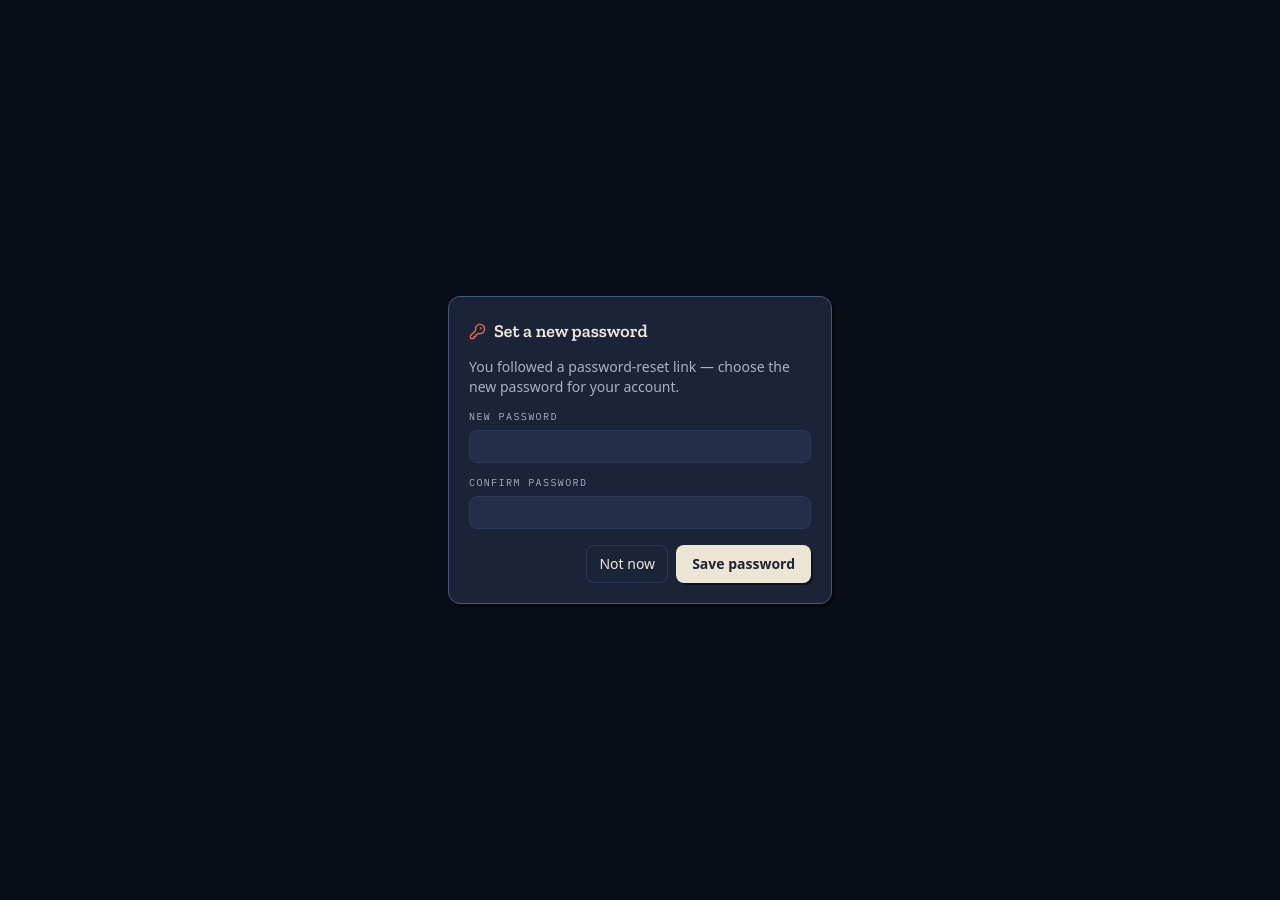
Test case: PasswordRecoveryModal › surfaces the store error when the update cannot run (offline)
This screenshot has width=1280, height=900.
Type "hunter22" into the password field labelled "New password" at (640, 446), box [469,430,811,463]
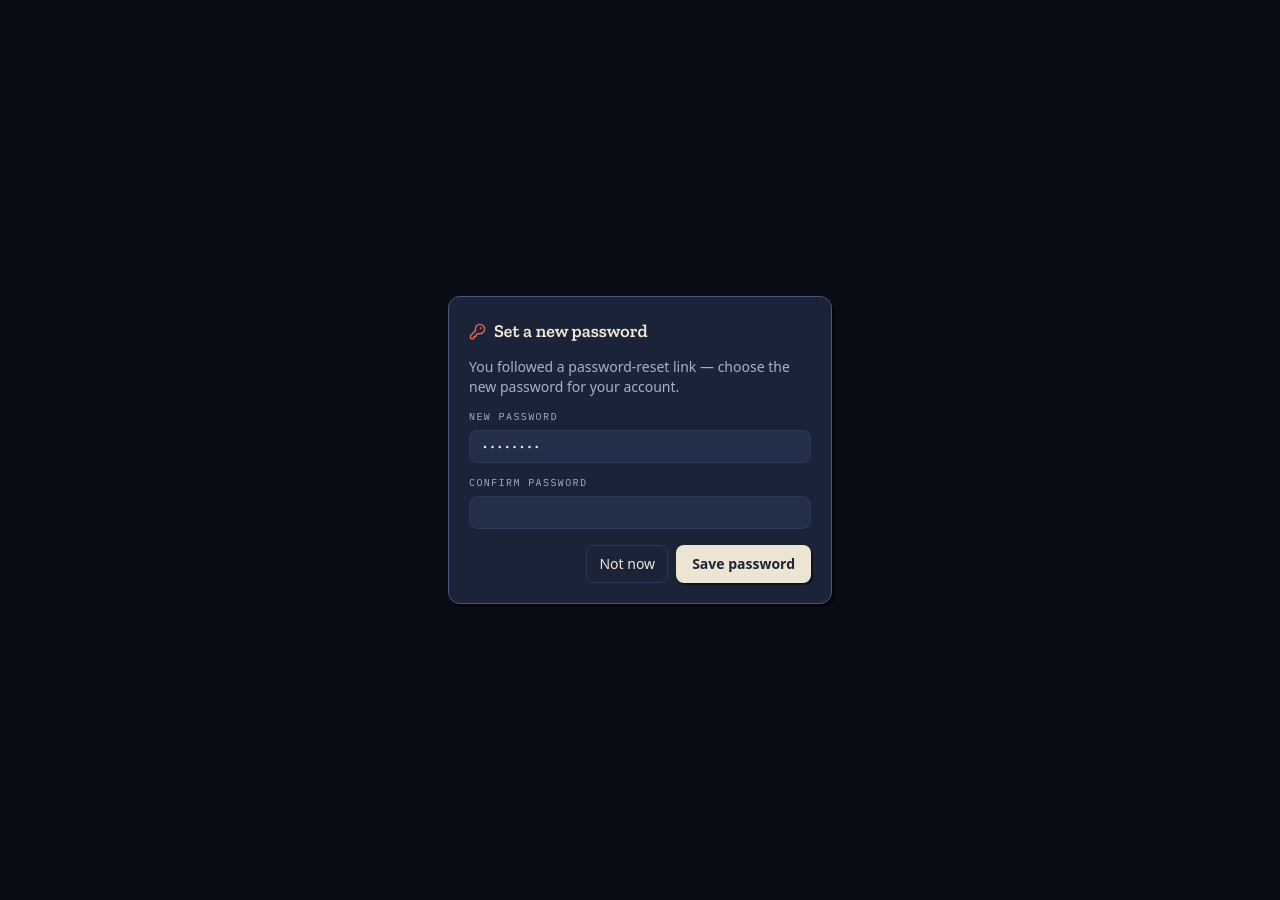
Type "hunter22" into the password field labelled "Confirm password" at (640, 512), box [469,496,811,529]
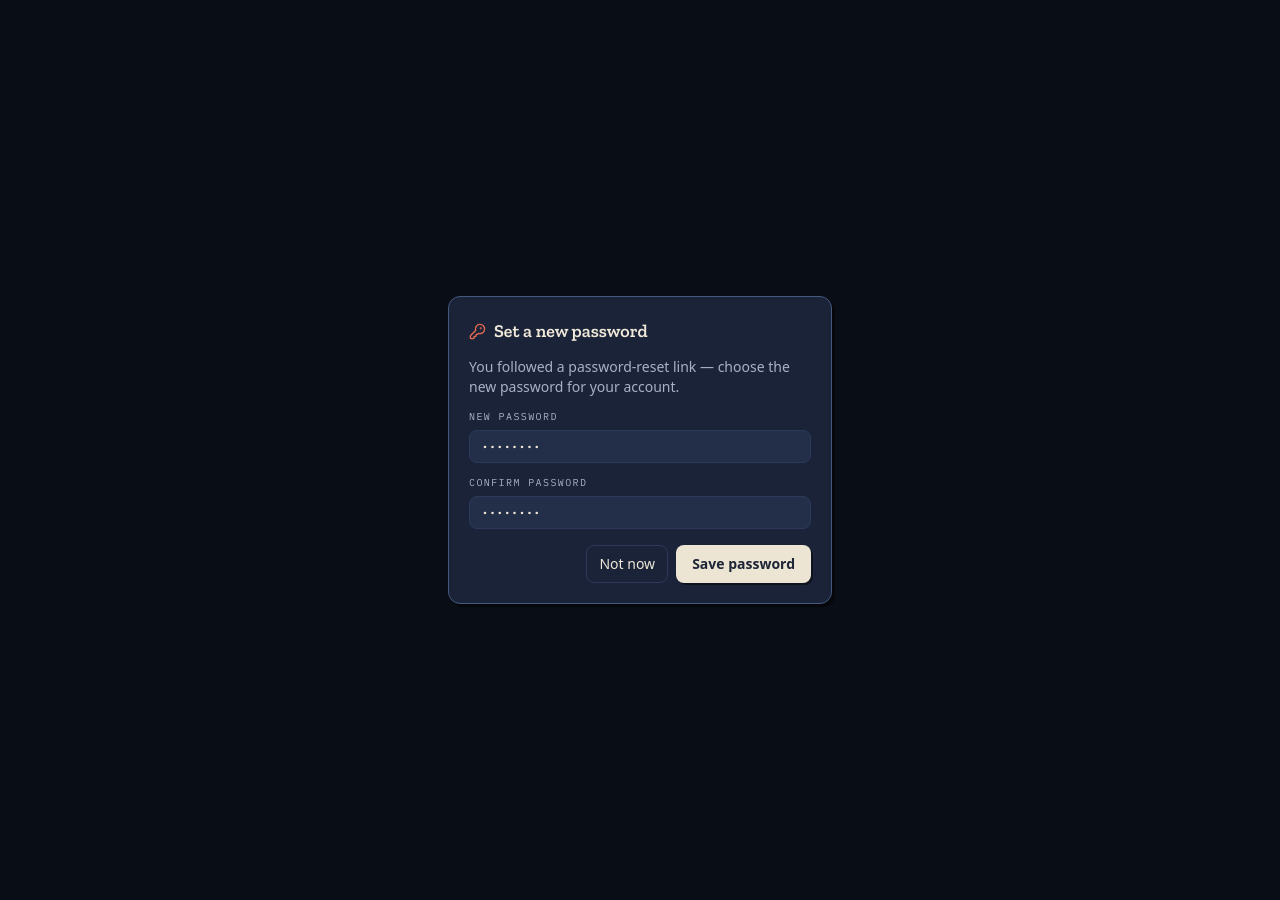
Click the button "Save password" at (744, 564), box [676,545,811,583]
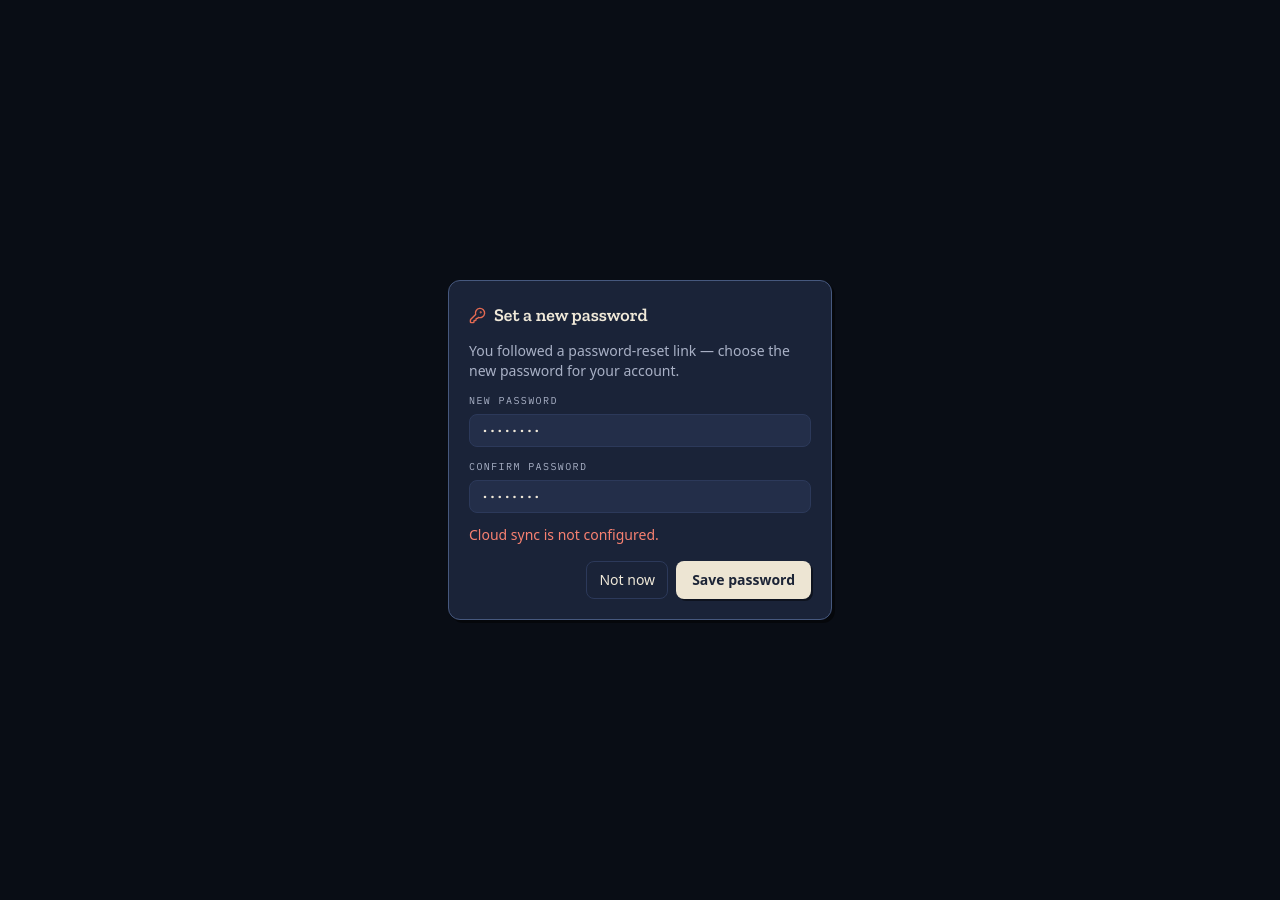
Expected: the text "Cloud sync is not configured." is shown, [469,525,659,544]
